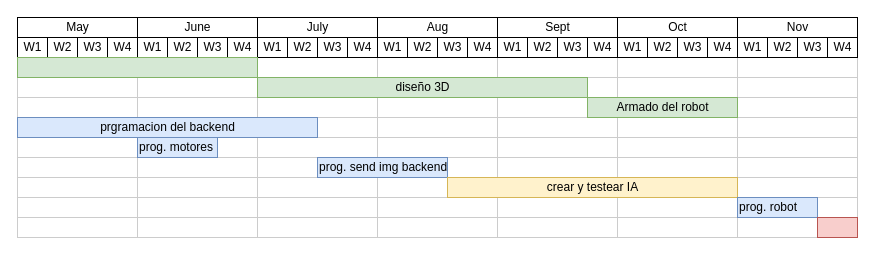
This 878x255 diagram has some shape labels left out. Each missing label, with the centre of its shape:
diseño pcb: [137,67]
entrega: [837,227]
